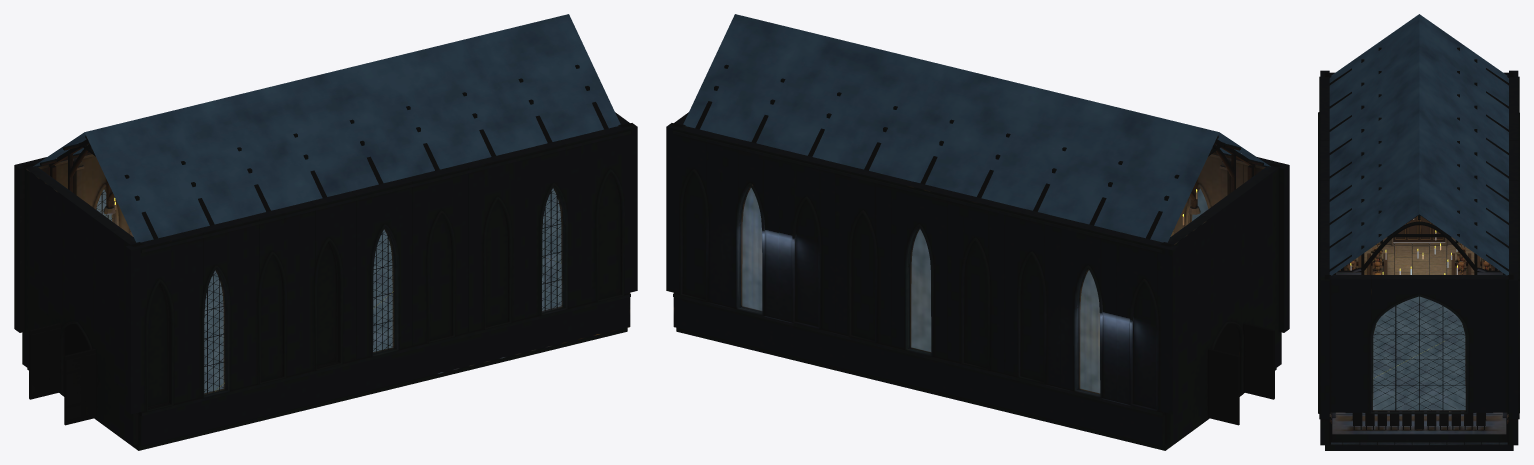
File: great-hall.glb
3 views of the same model, side by side, from view 1: azimuth 30°, elevation 25°; view 2: azimuth 150°, elevation 25°; view 3: azimuth 270°, elevation 25° (orthographic). The views are drawn at different scales.
Visible parts, largest first — view 1: Hall_stone, Hall_sky, Hall_details, Hall_furniture, Hall_timber, Hall_floor; view 2: Hall_stone, Hall_sky, Hall_details, Hall_furniture, Hall_timber, Hall_floor; view 3: Hall_sky, Hall_stone, Hall_details, Hall_floor, Hall_furniture, Hall_timber.
Part boxes in pixels (left/top/right/bottom): Hall_stone: left=14, top=112, right=637, bottom=446; Hall_sky: left=33, top=14, right=620, bottom=242; Hall_details: left=31, top=188, right=562, bottom=407; Hall_furniture: left=29, top=323, right=96, bottom=425; Hall_timber: left=40, top=64, right=608, bottom=239; Hall_floor: left=27, top=328, right=627, bottom=450; Hall_stone: left=666, top=112, right=1289, bottom=446; Hall_sky: left=683, top=14, right=1270, bottom=242; Hall_details: left=742, top=188, right=1208, bottom=393; Hall_furniture: left=1208, top=323, right=1274, bottom=425; Hall_timber: left=695, top=64, right=1263, bottom=239; Hall_floor: left=676, top=327, right=1276, bottom=450; Hall_sky: left=1329, top=14, right=1508, bottom=275; Hall_stone: left=1318, top=70, right=1519, bottom=445; Hall_details: left=1347, top=218, right=1491, bottom=410; Hall_floor: left=1325, top=243, right=1513, bottom=450; Hall_furniture: left=1329, top=216, right=1508, bottom=444; Hall_timber: left=1329, top=47, right=1508, bottom=274.
Size of the model in its own units: 35.96 by 17.91 by 13.92.
Materials: 9 (6 with a texture image).
